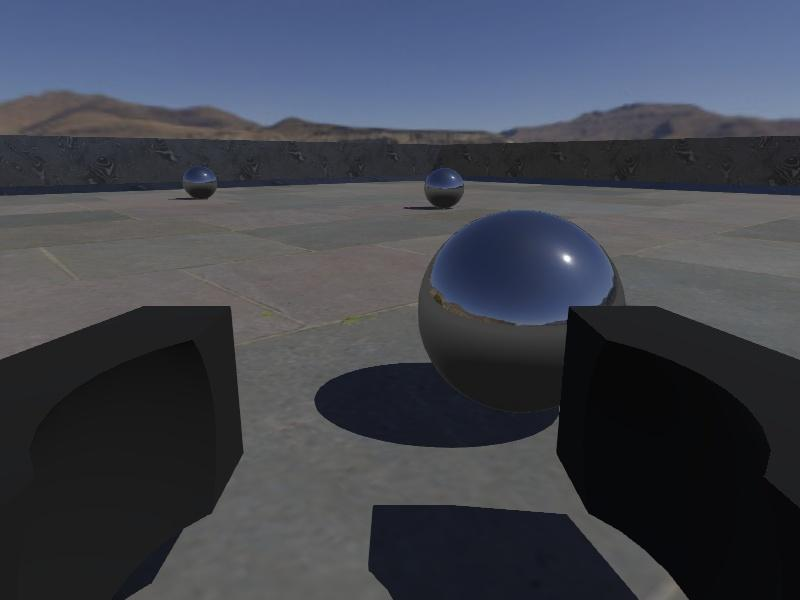steel ball: (423, 166, 465, 210), (182, 165, 218, 200)
